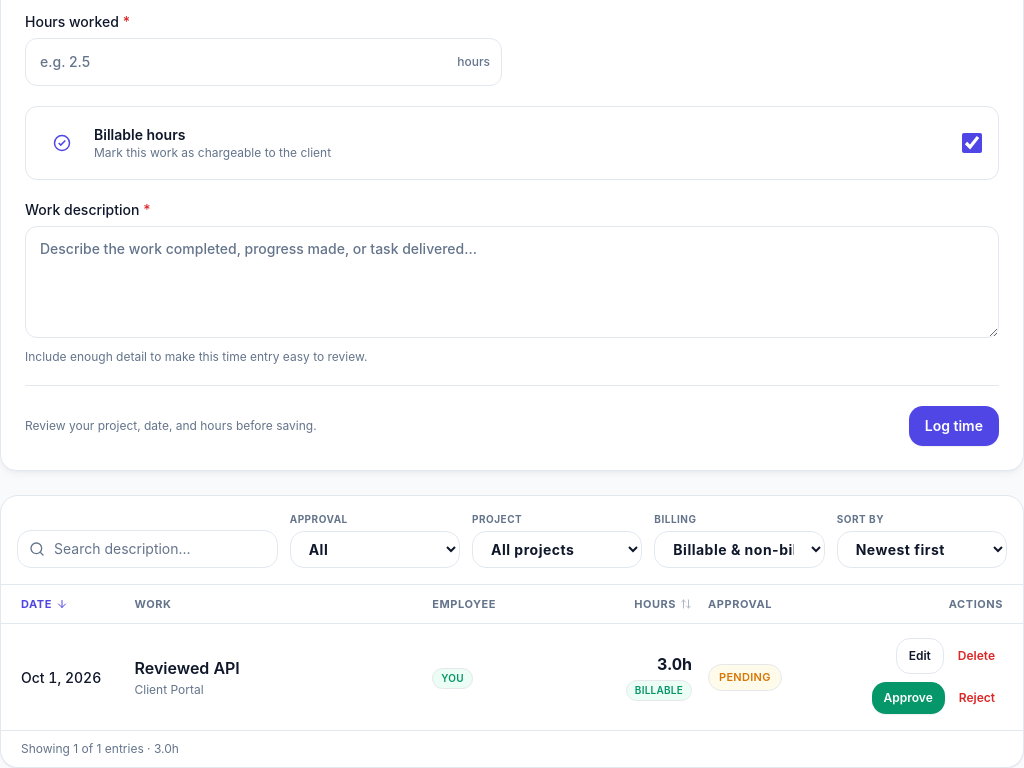
Scenario: TimesheetsPage (Characterization) › opens a formatted work description dialog with entry details
(page scrolled)
Expected: the text "Reviewed API" is shown, left=134, top=658, right=240, bottom=678
Click the button with aria-label "View full work description" at (187, 668), box left=134, top=656, right=416, bottom=680
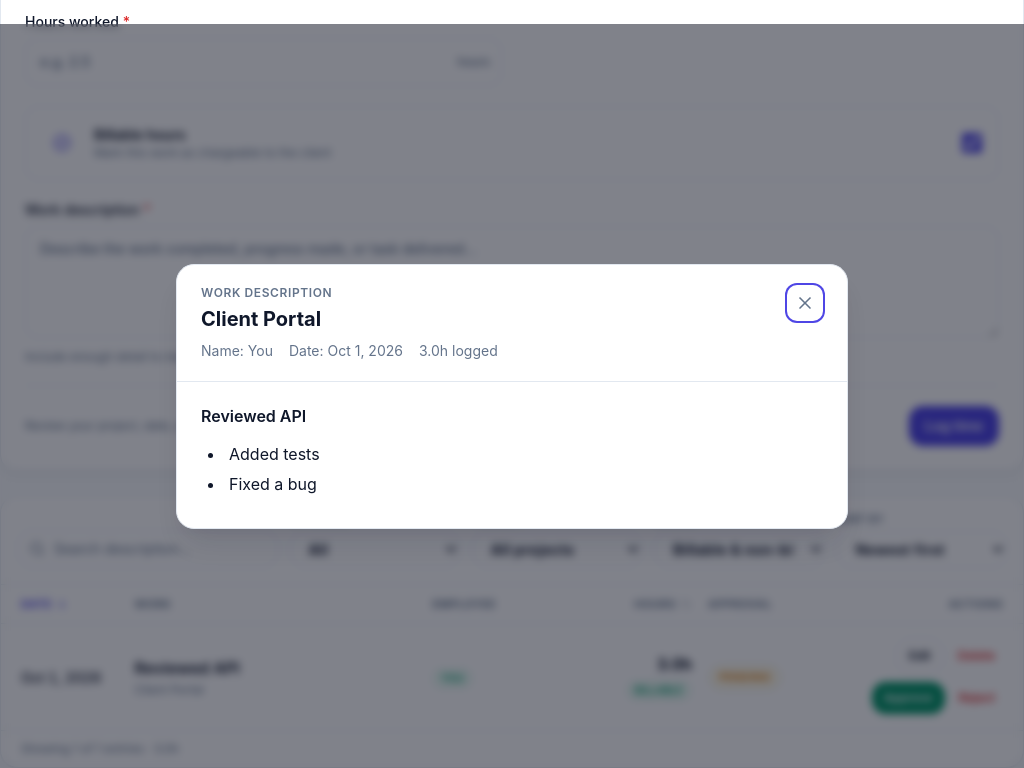
Expected: the dialog "Work description" shows "Client Portal", left=201, top=306, right=321, bottom=330
Expected: the dialog "Work description" shows "Name: You", left=176, top=264, right=848, bottom=528
Expected: the dialog "Work description" shows "Date: Oct 1, 2026", left=176, top=264, right=848, bottom=528
Press Escape
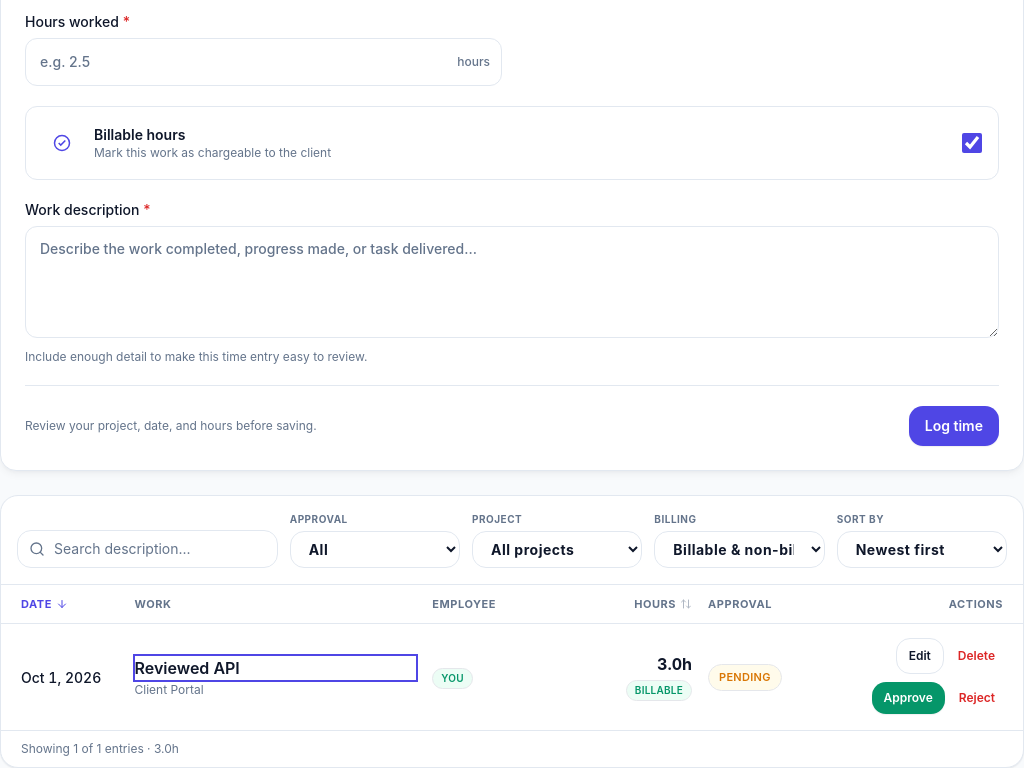
Expected: the dialog is gone
